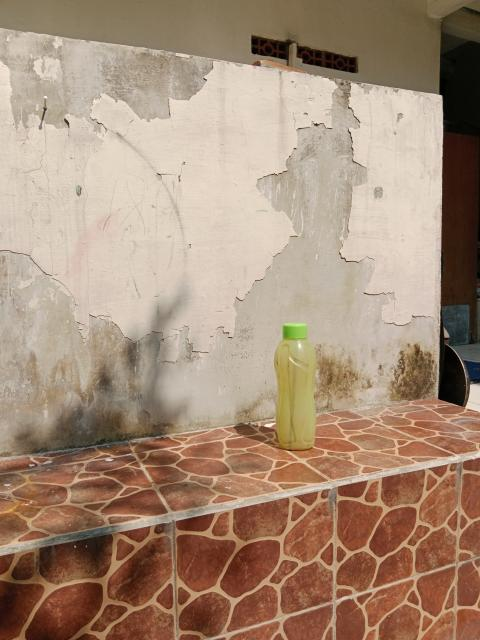botol: (270, 312, 322, 457)
